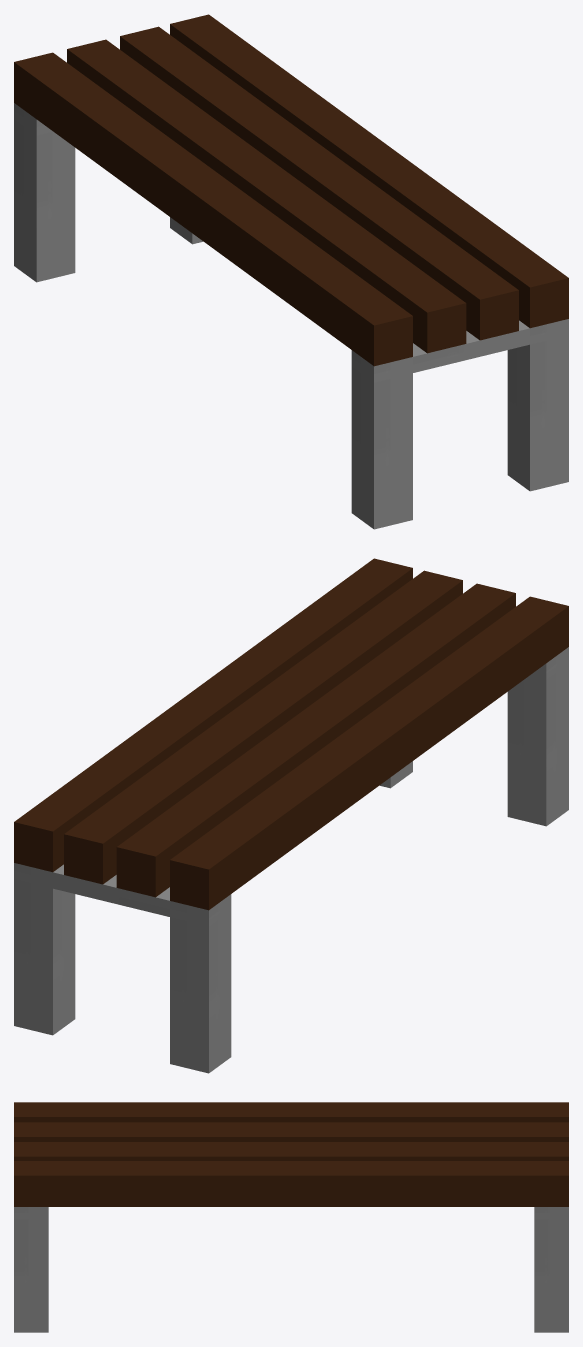
Rendered from straight-bench.fbx.
3 views of the same model, one above another, from view 1: azimuth 30°, elevation 25°; view 2: azimuth 150°, elevation 25°; view 3: azimuth 270°, elevation 25° (orthographic). The views are drawn at different scales.
Visible parts, largest first — view 1: Cube.003; view 2: Cube.003; view 3: Cube.003.
Boxes of the visible parts, x1,y1,x2,y2 form: Cube.003: (14, 14, 568, 529); Cube.003: (14, 558, 568, 1073); Cube.003: (14, 1102, 568, 1332).
Bounding box in the file's own units: 50 × 50 × 160.
